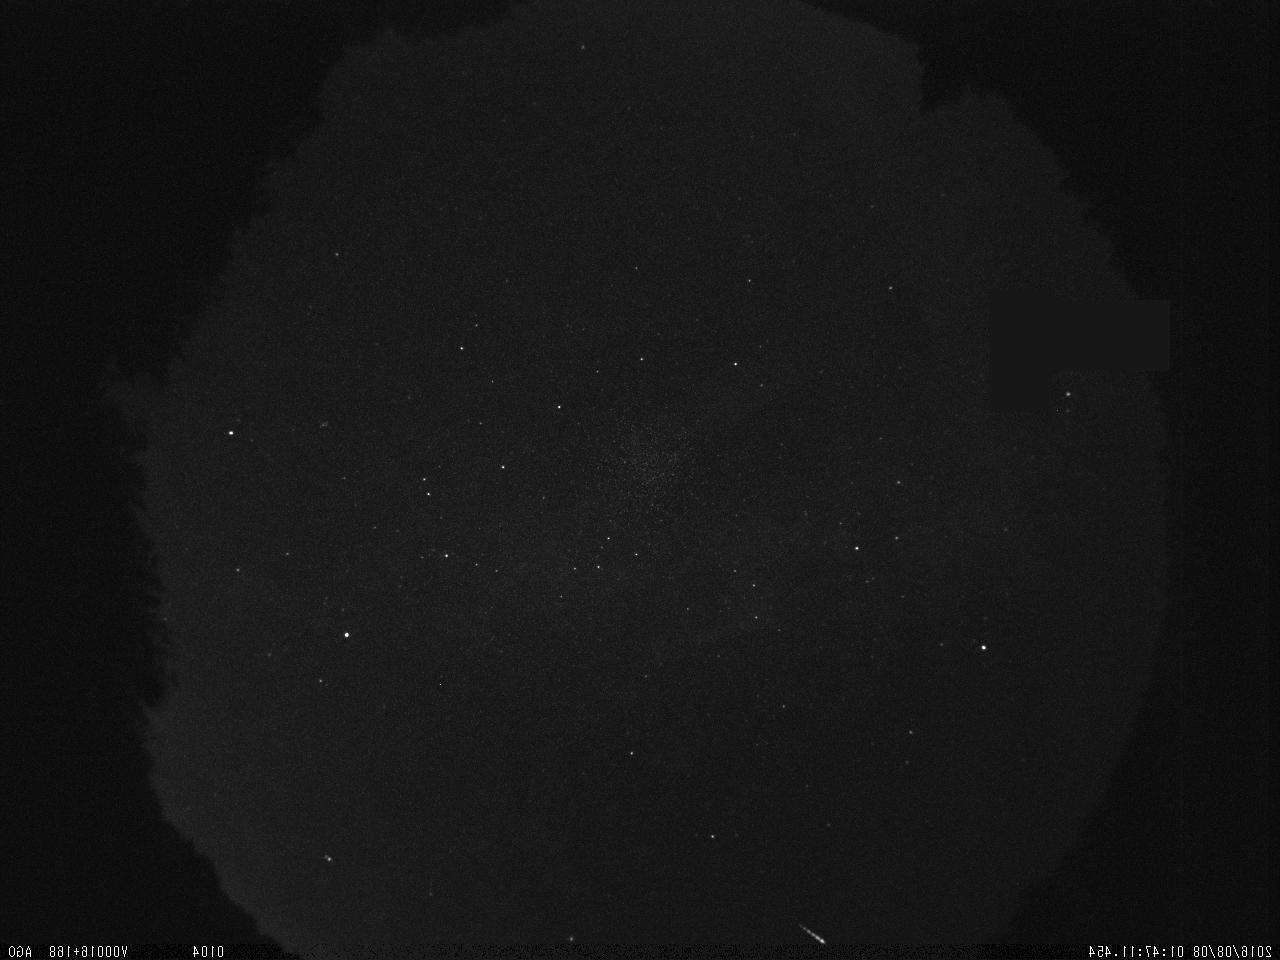meteor: (782, 914, 836, 948)
